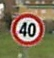limite 40: (9, 11, 45, 47)
